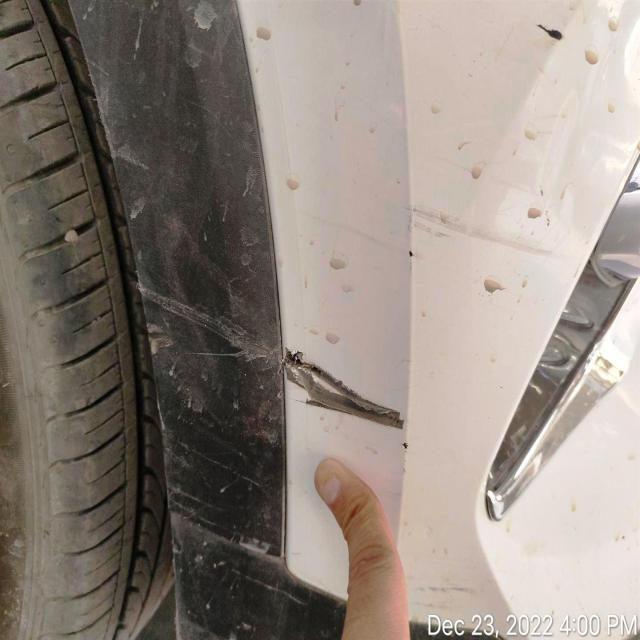damage: (282, 342, 404, 432)
